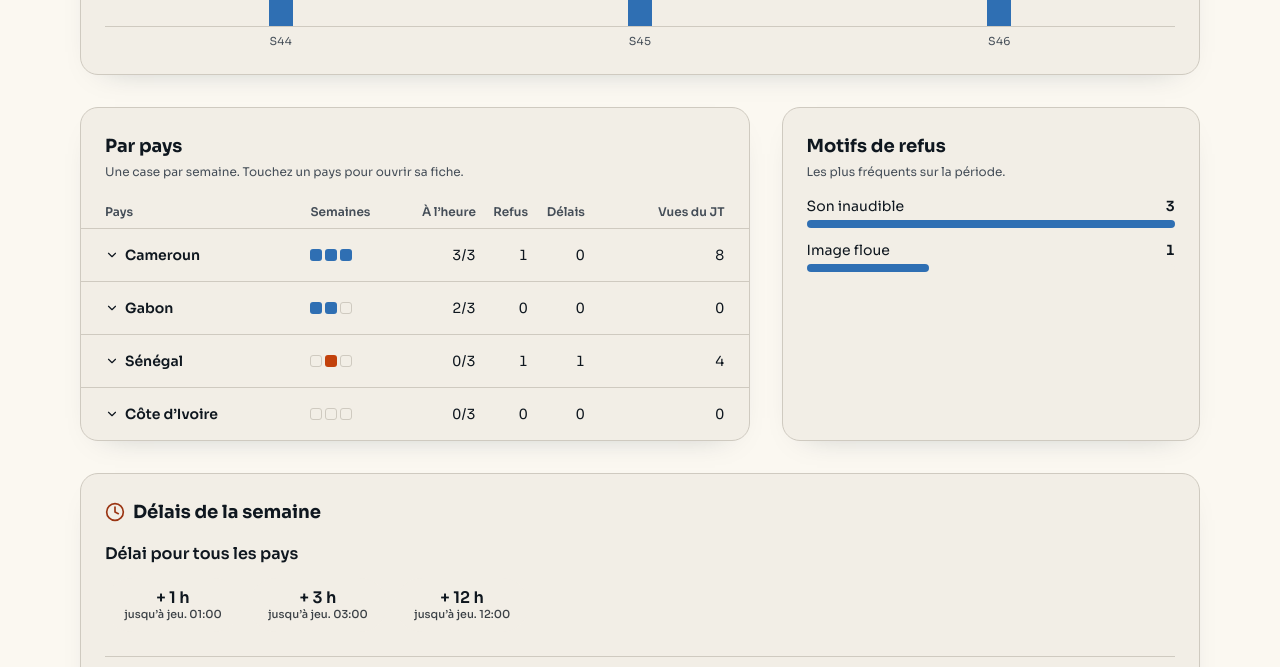
Scenario: la page des statistiques › ouvre la fiche d’un pays, semaine par semaine
(page scrolled)
Click the button "Sénégal". click: (144, 360)
box: left=105, top=344, right=183, bottom=376
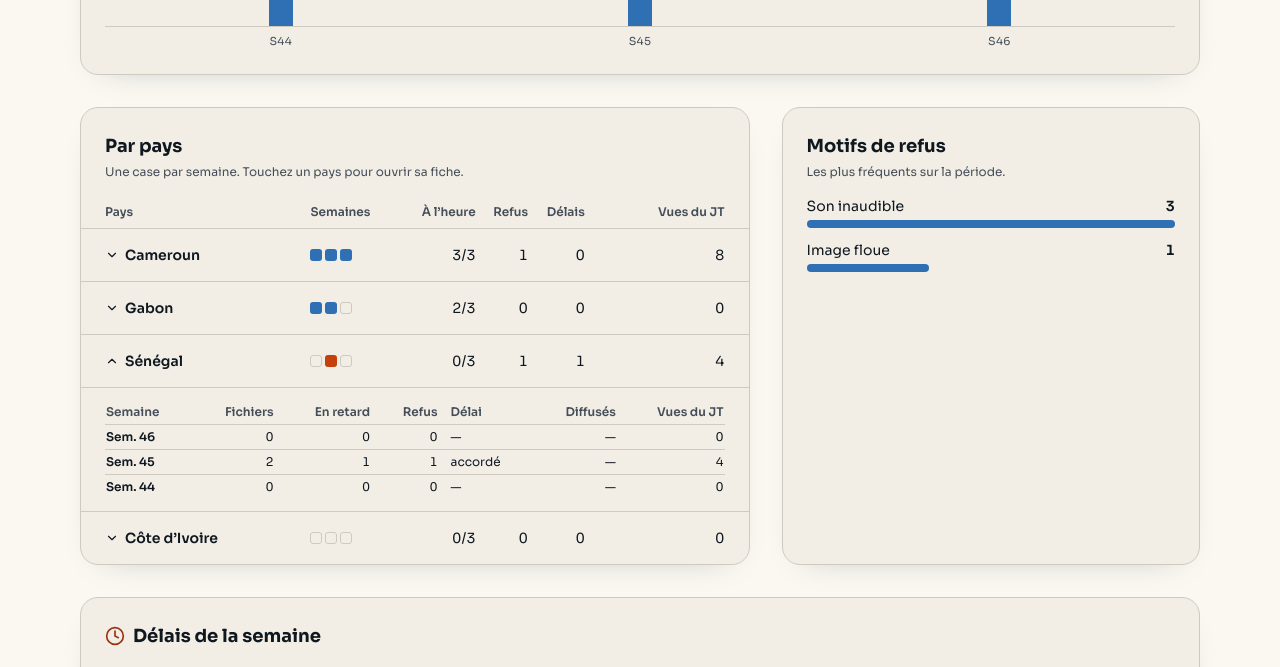
Now the text "accordé" is shown, box left=450, top=449, right=538, bottom=474
Now the button "Sénégal" is expanded, box left=105, top=344, right=183, bottom=376
